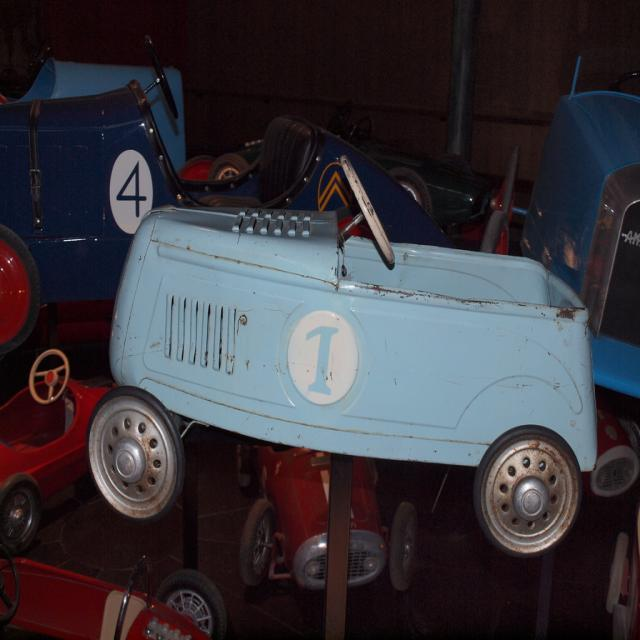car: (86, 149, 639, 552)
